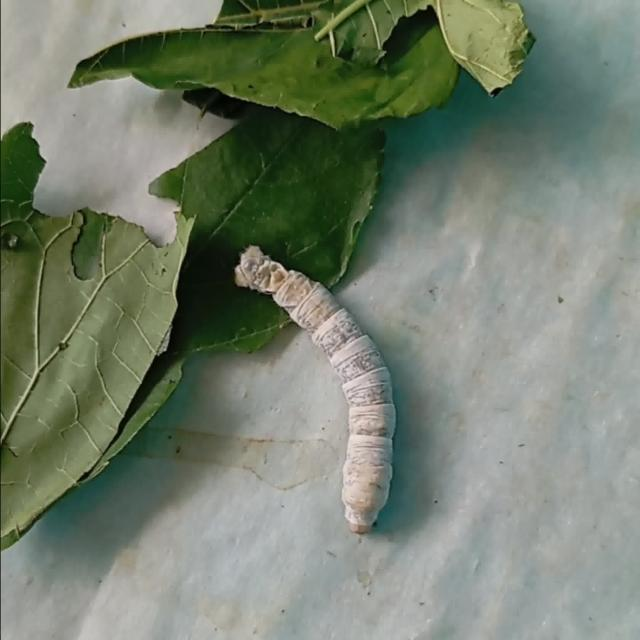Grasserie: (209, 224, 437, 555)
